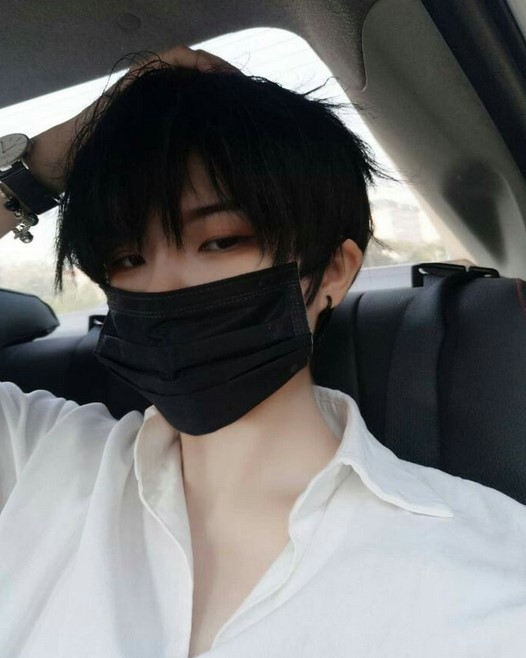face_with_mask: (69, 76, 358, 435)
